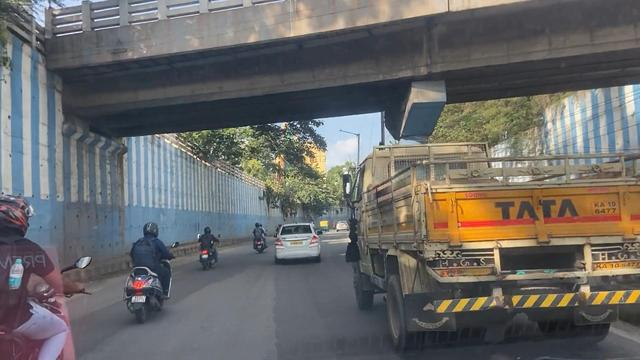HMV: (344, 143, 632, 348)
LMV: (121, 223, 167, 326), (273, 224, 318, 267)
